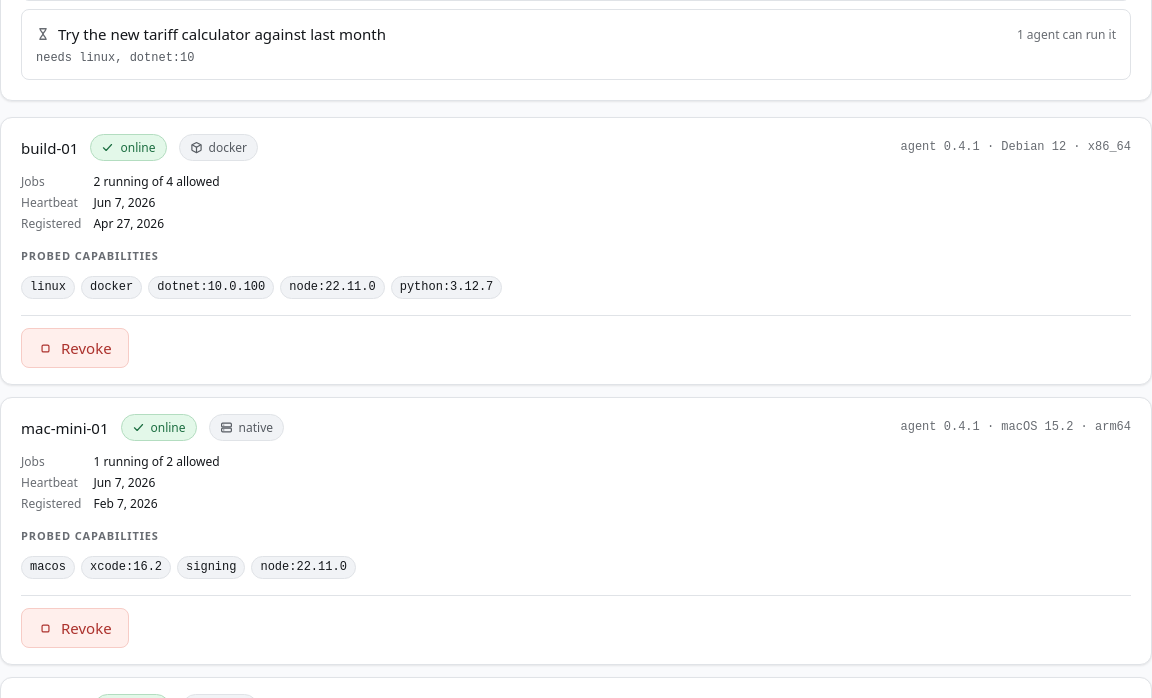
Settings → Runners (§33.3) › warns that revoking kills the jobs running right now, and counts them
(page scrolled)
Click the button "Revoke" below "Apr 27, 2026": (75, 348) [21,328,129,368]
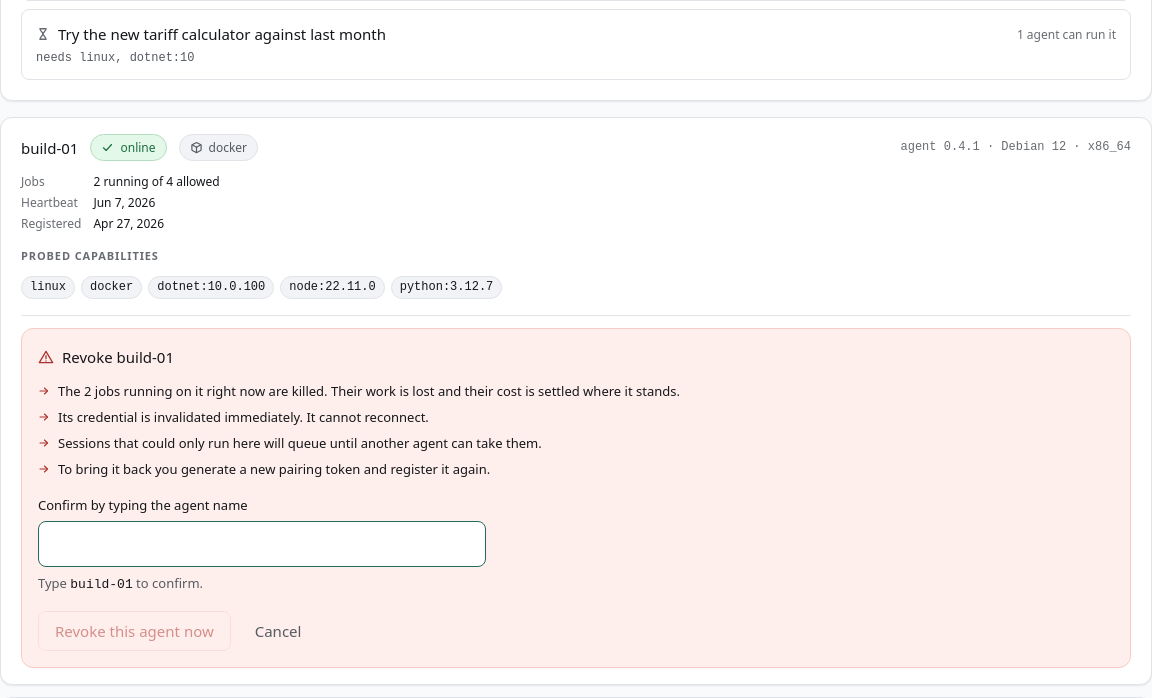
Expected: the text "The 2 jobs running on it right now are killed." is shown, [58,382,328,400]
Expected: the text "Its credential is invalidated immediately" is shown, [58,408,429,426]
